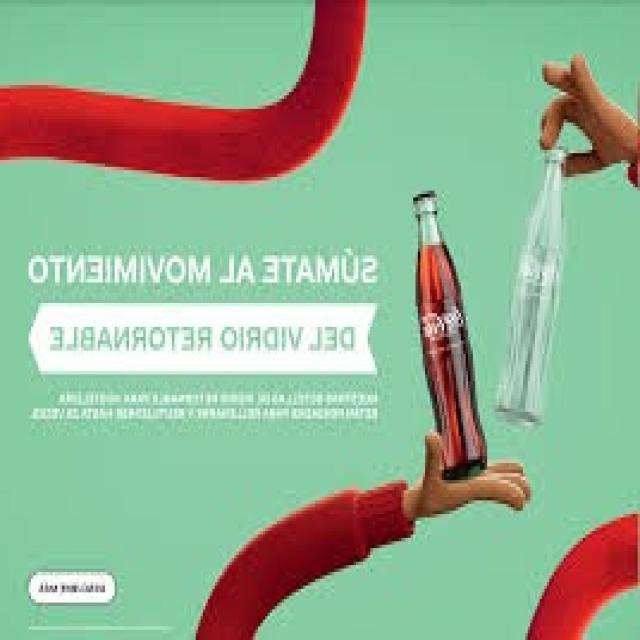coca cola: (415, 303, 466, 349)
